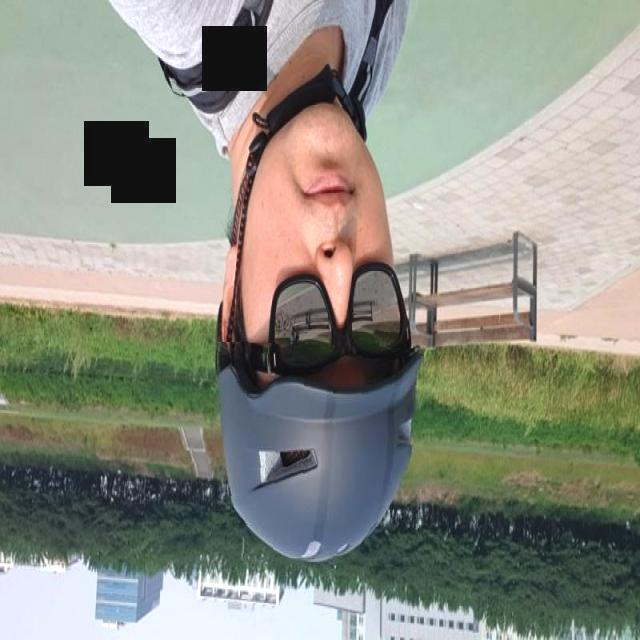helmet: (212, 343, 423, 566)
